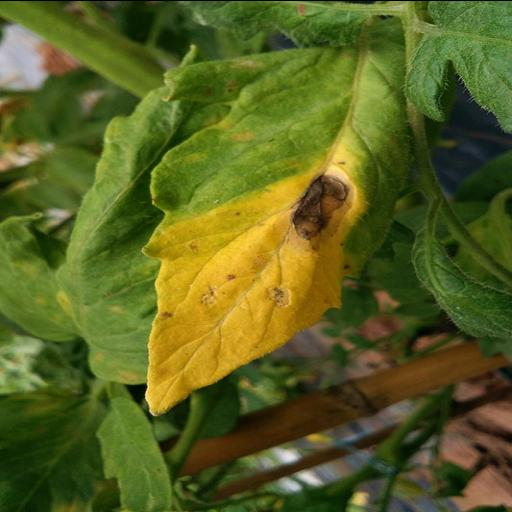Early Blight: (140, 44, 417, 419)
